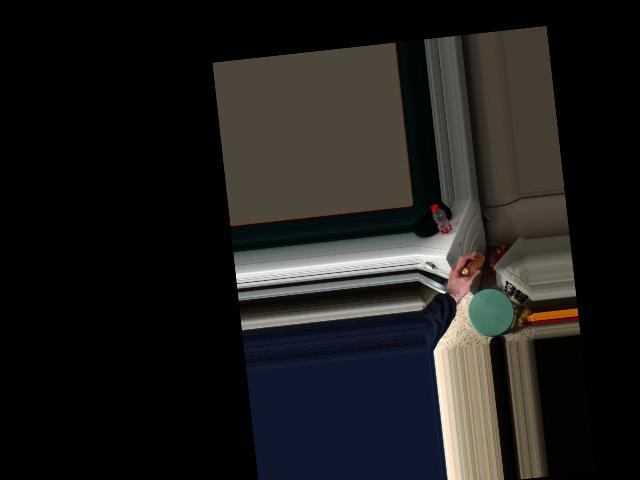sweet_potato: (456, 250, 485, 280)
